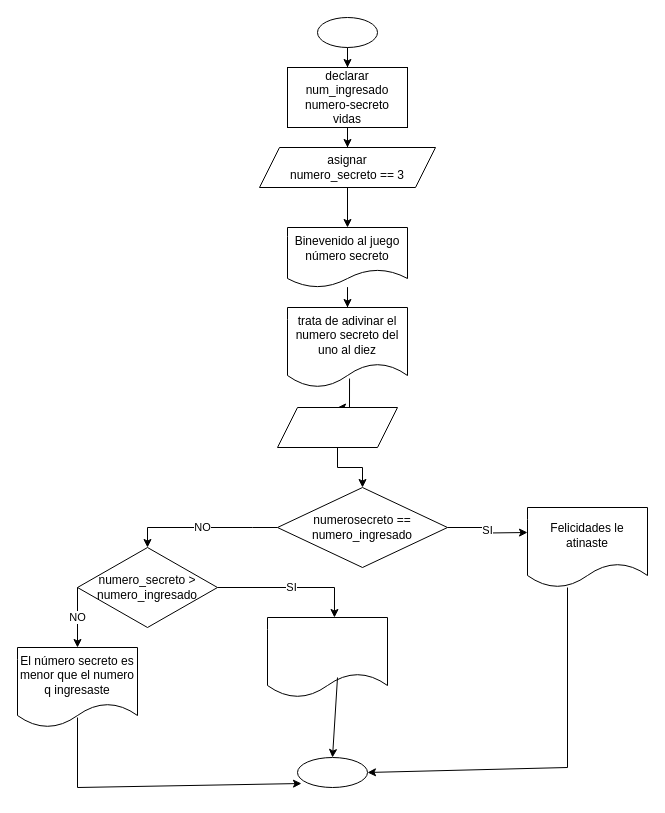
Some shapes in this 665 by 813 pixel diagram are drawn without their labels. The box of each missing label's shape, as (x1, y1, x2, y2) in pixels:
asignar numero_secreto: (276, 406, 398, 448)
El número secreto es mayor que el q ingresaste: (266, 616, 388, 698)
FIN: (296, 756, 368, 788)
inicio: (316, 16, 378, 48)
